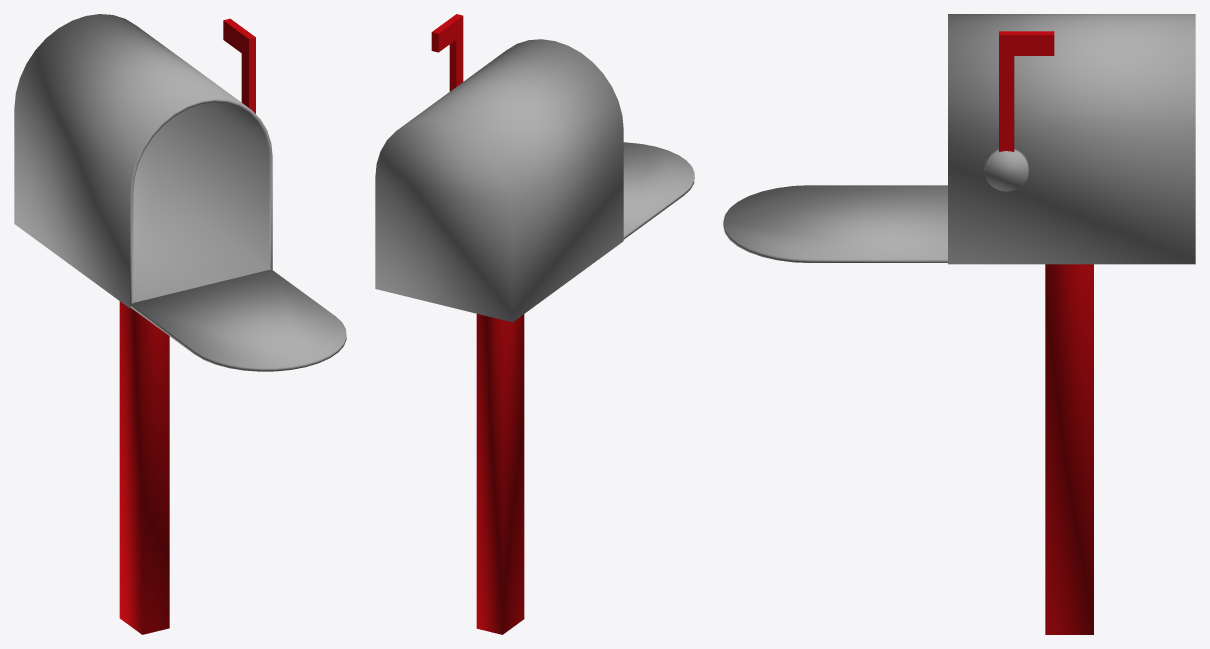
File: Mailbox.fbx
3 views of the same model, side by side, from view 1: azimuth 30°, elevation 25°; view 2: azimuth 150°, elevation 25°; view 3: azimuth 270°, elevation 25° (orthographic). The views are drawn at different scales.
Parts seen in each view (by area): view 1: Mailbox; view 2: Mailbox; view 3: Mailbox.
Part boxes in pixels (x1,y1,x2,y2): Mailbox: (14,14,346,634); Mailbox: (375,14,694,634); Mailbox: (723,14,1195,634).
Size of the model in its own units: 84.52 by 316 by 213.
